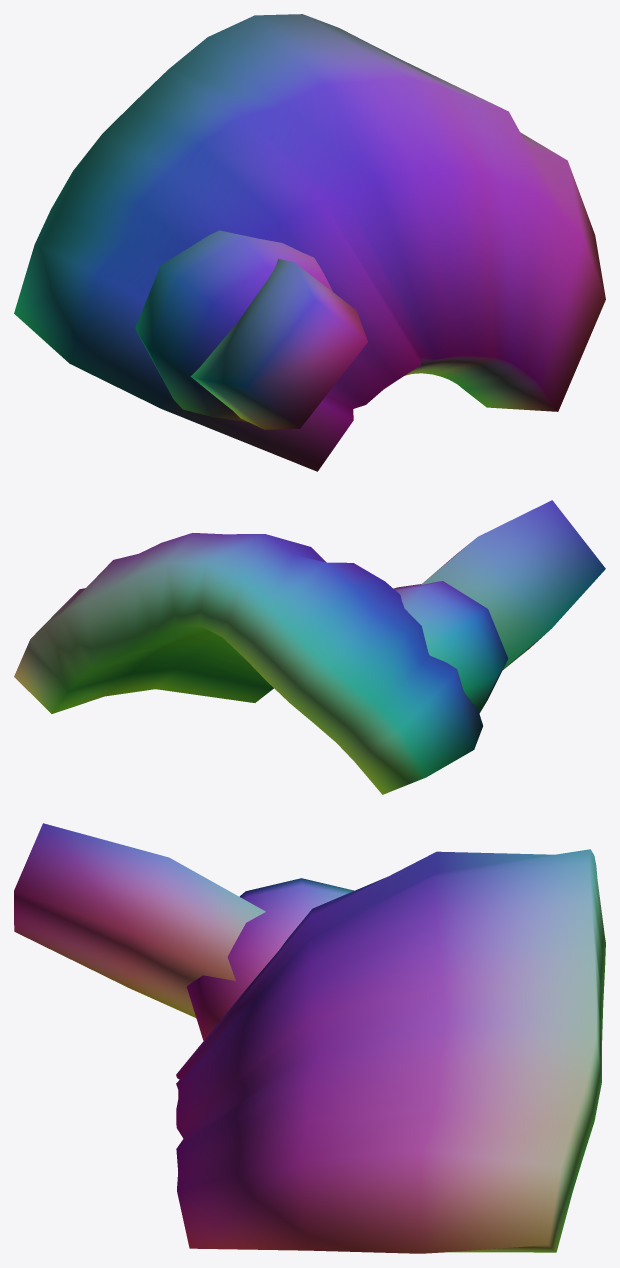
The model's file is SM_Mon_Deserter_Att_RedScarf.fbx.
The picture shows the model from 3 angles, top to bottom: view 1: azimuth 30°, elevation 25°; view 2: azimuth 150°, elevation 25°; view 3: azimuth 270°, elevation 25°; orthographic projection. The views are drawn at different scales.
Parts seen in each view (by area): view 1: SM_Mon_Deserter_Att_RedScarf; view 2: SM_Mon_Deserter_Att_RedScarf; view 3: SM_Mon_Deserter_Att_RedScarf.
Boxes of the visible parts, x1,y1,x2,y2 form: SM_Mon_Deserter_Att_RedScarf: (14,14,605,471); SM_Mon_Deserter_Att_RedScarf: (14,500,605,794); SM_Mon_Deserter_Att_RedScarf: (14,823,605,1253).
Bounding box in the file's own units: 0.1988 × 0.1103 × 0.1767.
